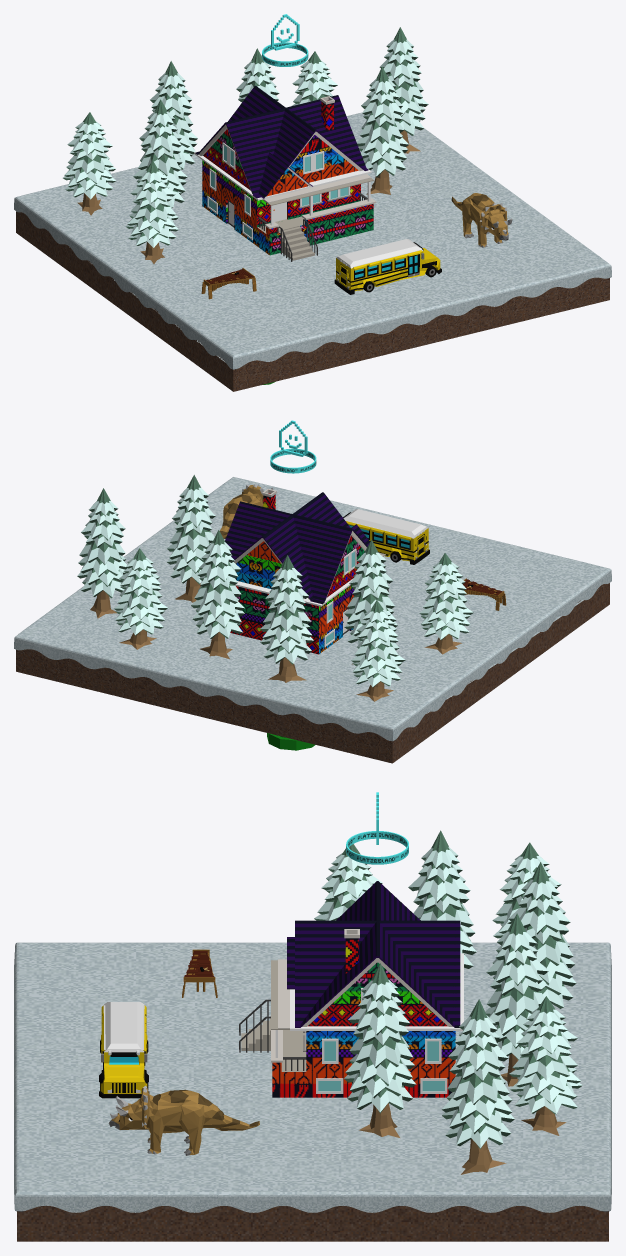
3 renders of one model, top to bottom at view 1: azimuth 30°, elevation 25°; view 2: azimuth 150°, elevation 25°; view 3: azimuth 270°, elevation 25°, orthographic. The views are drawn at different scales.
Parts seen in each view (by area): view 1: Cube.003, Cube.966, VEHICLES_SCHOOL_BUS, ANIMAL_Triceratops, TYPE_PREMIUM, OBJRANDOM_MARIMBA; view 2: Cube.003, Cube.966, VEHICLES_SCHOOL_BUS, TYPE_PREMIUM, ANIMAL_Triceratops, OBJRANDOM_MARIMBA, UNDERGROUND_PIPES; view 3: Cube.003, Cube.966, ANIMAL_Triceratops, VEHICLES_SCHOOL_BUS, TYPE_PREMIUM, OBJRANDOM_MARIMBA.
Part boxes in pixels (bbox=[...]): Cube.003: bbox=[14, 27, 611, 391]; Cube.966: bbox=[194, 85, 376, 261]; VEHICLES_SCHOOL_BUS: bbox=[334, 239, 441, 294]; ANIMAL_Triceratops: bbox=[451, 193, 512, 247]; TYPE_PREMIUM: bbox=[262, 14, 308, 66]; OBJRANDOM_MARIMBA: bbox=[201, 268, 256, 299]; Cube.003: bbox=[14, 475, 611, 763]; Cube.966: bbox=[225, 489, 388, 654]; VEHICLES_SCHOOL_BUS: bbox=[343, 509, 429, 564]; TYPE_PREMIUM: bbox=[270, 420, 316, 473]; ANIMAL_Triceratops: bbox=[219, 484, 273, 538]; OBJRANDOM_MARIMBA: bbox=[463, 578, 506, 610]; UNDERGROUND_PIPES: bbox=[267, 733, 315, 750]; Cube.003: bbox=[14, 830, 611, 1241]; Cube.966: bbox=[239, 881, 463, 1097]; ANIMAL_Triceratops: bbox=[108, 1085, 259, 1155]; VEHICLES_SCHOOL_BUS: bbox=[99, 1002, 149, 1098]; TYPE_PREMIUM: bbox=[346, 792, 408, 864]; OBJRANDOM_MARIMBA: bbox=[182, 949, 217, 997].
Bounding box in the file's own units: 4040 × 3051 × 4040.
Materials: 43 (8 with a texture image).
